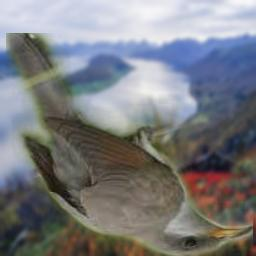Cuckoo: (6, 33, 253, 256)
